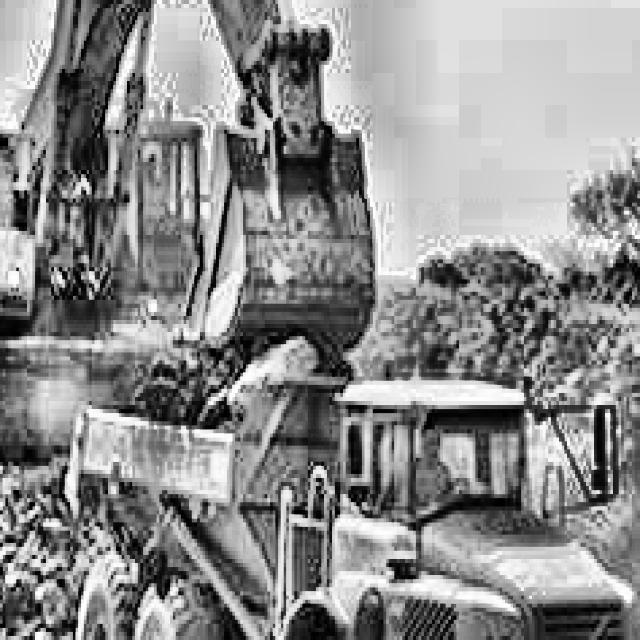dump_truck: (35, 328, 640, 640)
